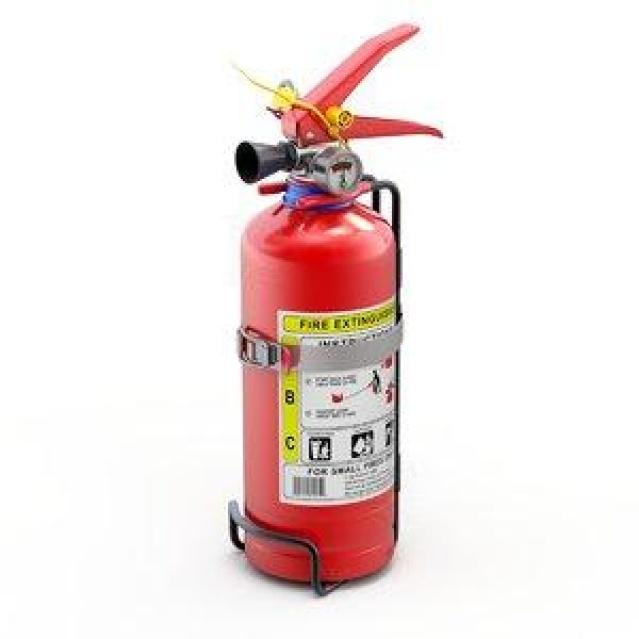APAR: (233, 21, 445, 585)
